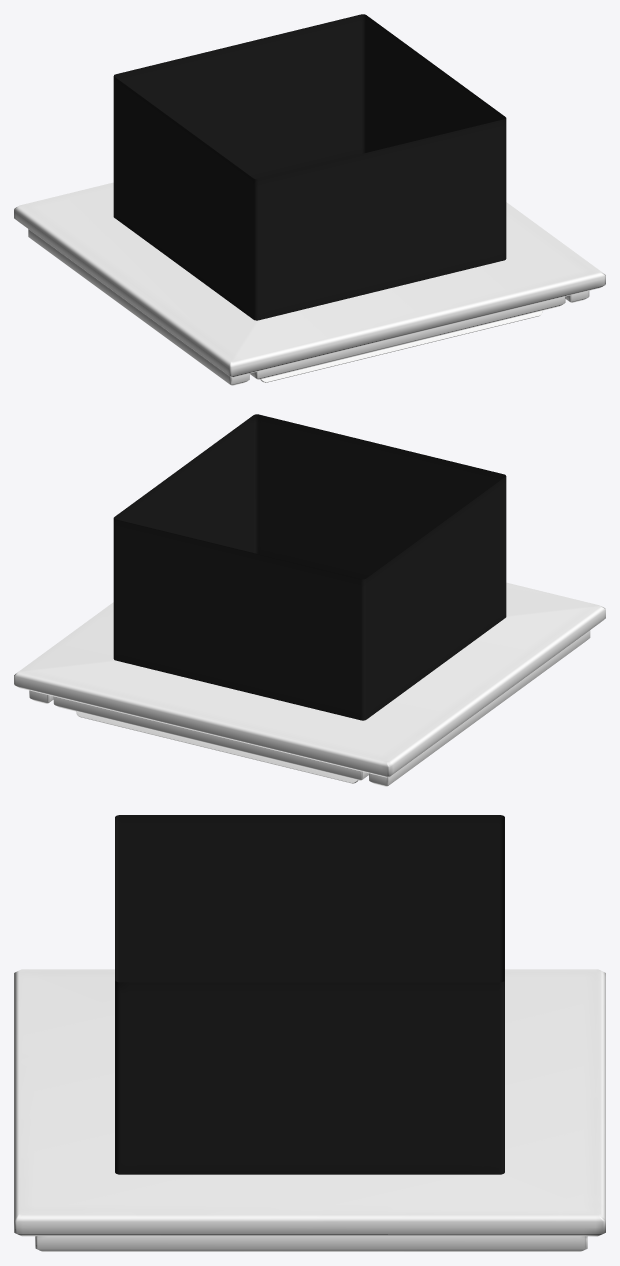
Rendered from Center AC.fbx.
3 views of the same model, one above another, from view 1: azimuth 30°, elevation 25°; view 2: azimuth 150°, elevation 25°; view 3: azimuth 270°, elevation 25° (orthographic). The views are drawn at different scales.
Visible parts, largest first — view 1: Center_AC; view 2: Center_AC; view 3: Center_AC.
Part boxes in pixels (<box>): Center_AC: <box>14,14,605,385</box>; Center_AC: <box>14,414,605,786</box>; Center_AC: <box>14,815,605,1251</box>.
Size of the model in its own units: 119 by 56.31 by 119.
1 material, 1 textured.
